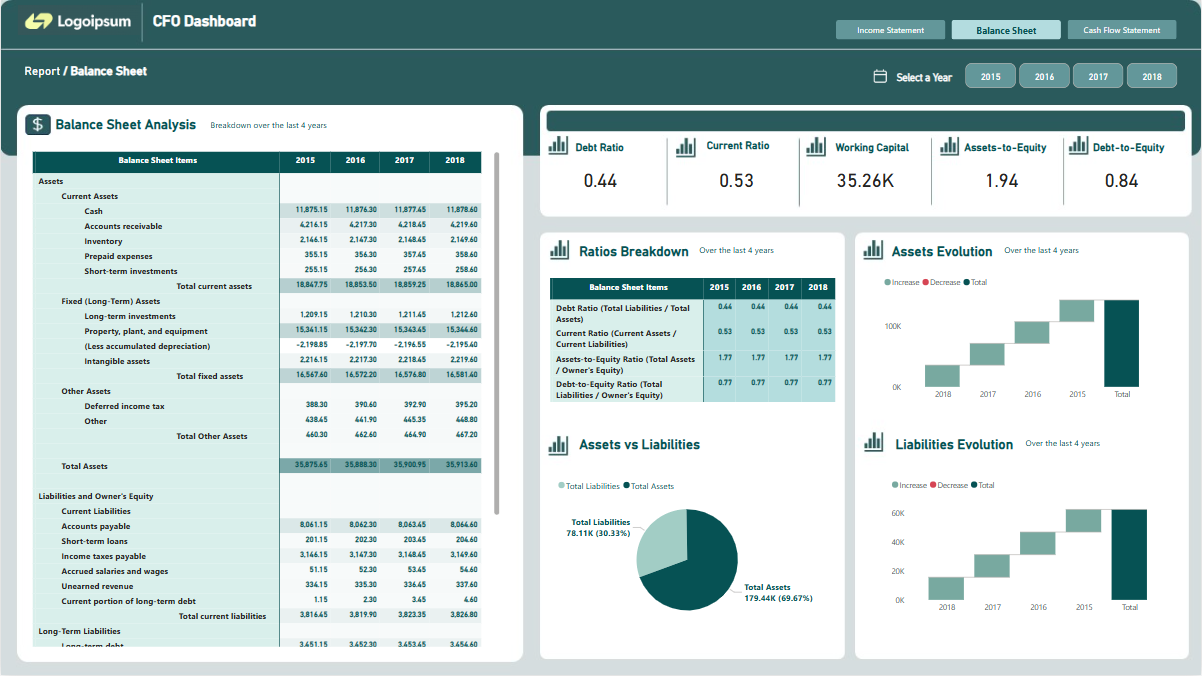

Layout of this report page (visuals, bound fields, positions):
{"tool":"powerbi","page":{"name":"Balance Sheet","canvas":[1920,1080],"ordinal":1},"visuals":[{"type":"image","box":[22.9,0,205.7,64.3],"z":0},{"type":"advancedSlicerVisual","fields":{"Values":["Dates.Year"]},"box":[1538.3,96.3,351.4,50],"z":0,"group":"g2"},{"type":"image","box":[1386.9,103.4,41.7,35],"z":0,"group":"g1"},{"type":"textbox","box":[237.1,14.3,322.9,50],"z":1000},{"type":"group","id":"g1","title":"Group 1","box":[1386.9,103.4,164.3,35.7],"z":1000,"group":"g2"},{"type":"textbox","box":[1428.6,106.7,123.3,33.3],"z":1000,"group":"g1"},{"type":"textbox","box":[31.4,97.1,450,32.9],"z":2000},{"type":"textbox","box":[81.4,182.9,405.7,40],"z":3000},{"type":"textbox","box":[329.7,186.7,396.8,39.4],"z":4000},{"type":"pivotTable","fields":{"Rows":["Balance Sheet Template.Row Index","Balance Sheet Template.Balance Sheet Items"],"Values":["Measures  Table.B/S Values"],"Columns":["Dates.Year"]},"box":[45,238.3,756.7,801.7],"z":5000},{"type":"textbox","box":[914.3,220,101.4,40],"z":6000},{"type":"textbox","box":[1123.4,218.8,134.2,39.4],"z":7000},{"type":"textbox","box":[1329.1,219.3,135.7,39.4],"z":8000},{"type":"textbox","box":[1536.3,220.8,150.3,39.4],"z":9000},{"type":"textbox","box":[1741.8,220.5,135.7,39.4],"z":10000},{"type":"textbox","box":[919.5,383.6,243.6,40.9],"z":11000},{"type":"textbox","box":[1112.6,385.1,275.7,39.4],"z":12000},{"type":"textbox","box":[920.6,694.5,297.6,40.9],"z":13000},{"type":"textbox","box":[1420.9,384.1,243.6,40.9],"z":14000},{"type":"textbox","box":[1426.3,693,207.2,40.9],"z":15000},{"type":"textbox","box":[1600.4,387,275.7,39.4],"z":16000},{"type":"textbox","box":[1633.5,694.5,182.4,39.4],"z":17000},{"type":"card","fields":{"Values":["Measures  Table.Debt Ratio"]},"box":[904.3,261.4,110,50],"z":18000},{"type":"card","fields":{"Values":["Measures  Table.Current ratio"]},"box":[1122.9,261.4,110,50],"z":19000},{"type":"card","fields":{"Values":["Measures  Table.Working Capital"]},"box":[1328.6,261.4,110,50],"z":20000},{"type":"card","fields":{"Values":["Measures  Table.Assets to Equity Ratio"]},"box":[1545.7,262.9,110,50],"z":21000},{"type":"card","fields":{"Values":["Measures  Table.Debt to Equity Ratio"]},"box":[1738.6,262.9,110,50],"z":22000},{"type":"pieChart","fields":{"Y":["Measures  Table.Total Liabilities","Measures  Table.Total Assets"]},"box":[885.7,755.7,424.3,250],"z":23000},{"type":"pivotTable","fields":{"Rows":["Balance Sheet Template.Row Index","Balance Sheet Template.Balance Sheet Items"],"Values":["Measures  Table.B/S Values"],"Columns":["Dates.Year"]},"box":[874.3,440,470,225.7],"z":24000},{"type":"waterfallChart","fields":{"Y":["Measures  Table.Total Assets"],"Category":["Dates.Year"]},"box":[1408.6,431.4,448.6,217.1],"z":25000},{"type":"waterfallChart","fields":{"Category":["Dates.Year"],"Y":["Measures  Table.Total Liabilities"]},"box":[1420,756,450,234],"z":26000},{"type":"group","id":"g2","title":"Group 2","box":[1386.9,96.3,502.9,50],"z":27000},{"type":"pageNavigator","box":[1336.2,32.5,547.5,31.2],"z":28000}]}

Visuals, with their boxes in screenshot pixels (x1, y1, x2, y2), scaled from the page's 1920x1080 canvas onto the 1202x676 screenshot:
image: [14,0,143,40]
advancedSlicerVisual - Dates.Year: [963,60,1183,92]
image: [868,65,894,87]
textbox: [148,9,351,40]
"Group 1" group: [868,65,971,87]
textbox: [894,67,972,88]
textbox: [20,61,301,81]
textbox: [51,114,305,140]
textbox: [206,117,455,142]
pivotTable - Balance Sheet Template.Row Index x Balance Sheet Template.Balance Sheet Items: [28,149,502,651]
textbox: [572,138,636,163]
textbox: [703,137,787,162]
textbox: [832,137,917,162]
textbox: [962,138,1056,163]
textbox: [1090,138,1175,163]
textbox: [576,240,728,266]
textbox: [697,241,869,266]
textbox: [576,435,763,460]
textbox: [890,240,1042,266]
textbox: [893,434,1023,459]
textbox: [1002,242,1175,267]
textbox: [1023,435,1137,459]
card - Measures  Table.Debt Ratio: [566,164,635,195]
card - Measures  Table.Current ratio: [703,164,772,195]
card - Measures  Table.Working Capital: [832,164,901,195]
card - Measures  Table.Assets to Equity Ratio: [968,165,1037,196]
card - Measures  Table.Debt to Equity Ratio: [1088,165,1157,196]
pieChart - Measures  Table.Total Liabilities x Measures  Table.Total Assets: [554,473,820,629]
pivotTable - Balance Sheet Template.Row Index x Balance Sheet Template.Balance Sheet Items: [547,275,842,417]
waterfallChart - Measures  Table.Total Assets x Dates.Year: [882,270,1163,406]
waterfallChart - Dates.Year x Measures  Table.Total Liabilities: [889,473,1171,620]
"Group 2" group: [868,60,1183,92]
pageNavigator: [837,20,1179,40]
